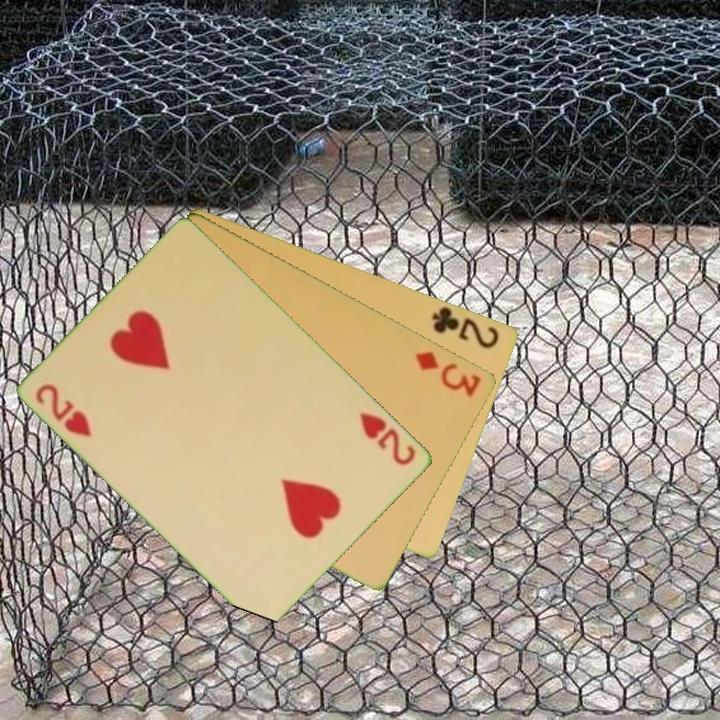2c: (428, 303, 503, 352)
2h: (32, 380, 96, 441), (356, 408, 419, 469)
3d: (412, 347, 485, 400)
